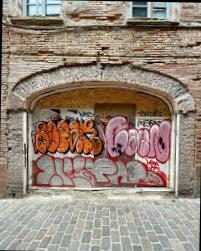graffiti: (33, 110, 170, 189)
